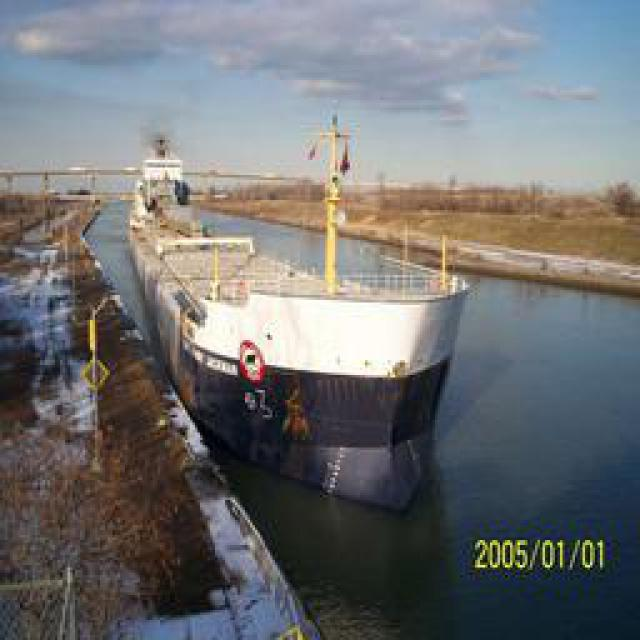Ship: (130, 149, 475, 494)
